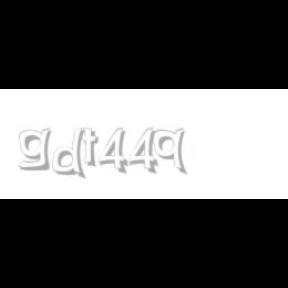4: (97, 128, 128, 174), (128, 128, 158, 174)
d: (53, 128, 90, 180)
g: (18, 128, 55, 171)
q: (153, 128, 189, 176)
t: (81, 128, 103, 168)
